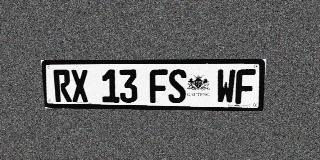1: (101, 69, 120, 103)
3: (119, 69, 137, 103)
F: (235, 69, 256, 104), (150, 69, 168, 103)
R: (53, 69, 72, 102)
S: (168, 69, 186, 103)
W: (216, 69, 236, 104)
X: (70, 69, 89, 102)
